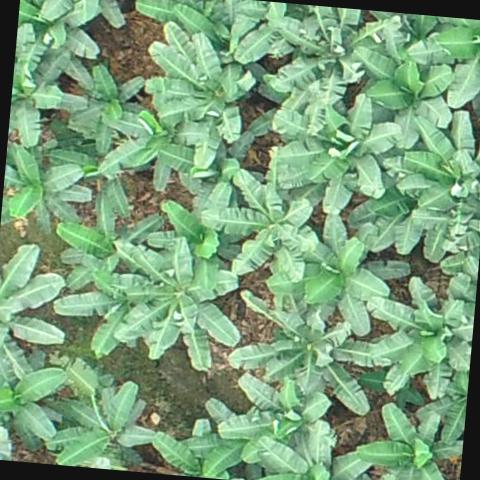Banana-plant: (225, 286, 382, 416), (116, 234, 244, 374), (268, 90, 404, 216), (142, 24, 253, 170), (358, 273, 478, 399), (200, 168, 322, 280), (270, 2, 386, 110), (401, 106, 480, 264), (268, 238, 390, 340), (351, 46, 457, 152), (54, 190, 164, 292), (48, 372, 154, 472), (217, 374, 333, 463), (0, 241, 71, 381), (50, 266, 148, 360), (356, 399, 466, 480), (0, 144, 94, 237), (348, 172, 439, 262), (255, 416, 376, 480), (149, 176, 236, 264), (8, 32, 70, 150), (68, 65, 144, 158), (15, 0, 123, 64), (406, 14, 480, 107), (0, 346, 64, 453)
